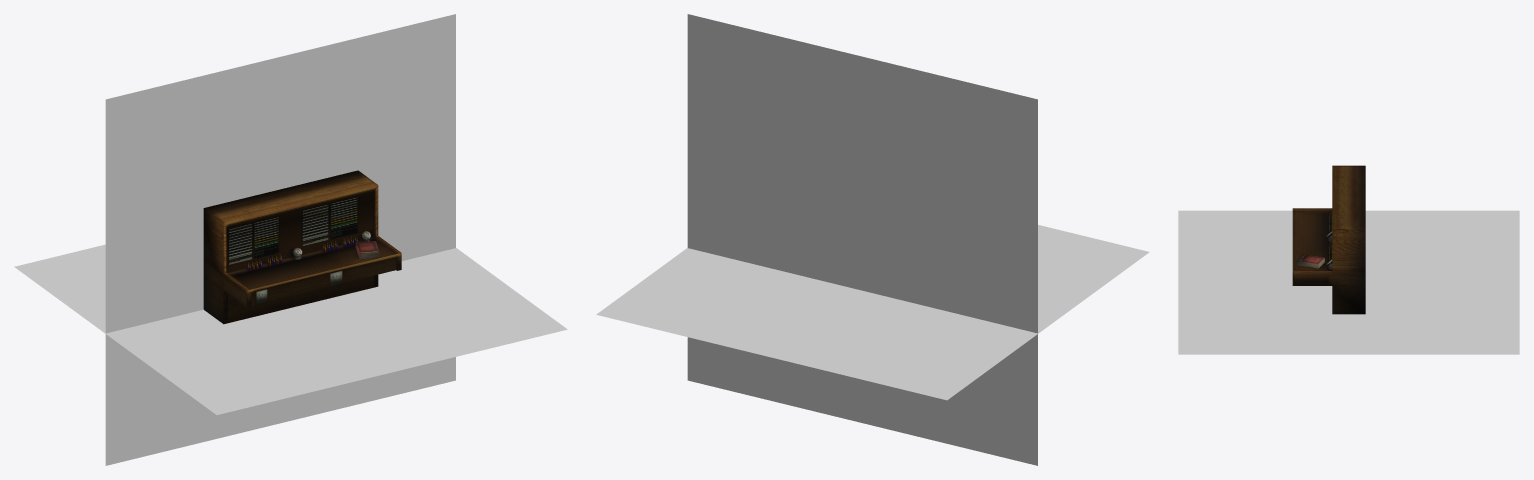
File: TelephoneExchange.fbx
The picture shows the model from 3 angles, left to right: view 1: azimuth 30°, elevation 25°; view 2: azimuth 150°, elevation 25°; view 3: azimuth 270°, elevation 25°; orthographic projection. The views are drawn at different scales.
Visible parts, largest first — view 1: Plane_001, Plane, Cube; view 2: Plane_001, Plane; view 3: Plane, Cube.
Boxes of the visible parts, x1=… form: Plane_001: x1=105, y1=14, x2=455, y2=465; Plane: x1=14, y1=244, x2=567, y2=414; Cube: x1=203, y1=170, x2=401, y2=324; Plane_001: x1=687, y1=14, x2=1037, y2=465; Plane: x1=596, y1=225, x2=1149, y2=400; Plane: x1=1178, y1=210, x2=1519, y2=354; Cube: x1=1292, y1=165, x2=1365, y2=314.
Size of the model in its own units: 8.43 by 8.41 by 8.43.
